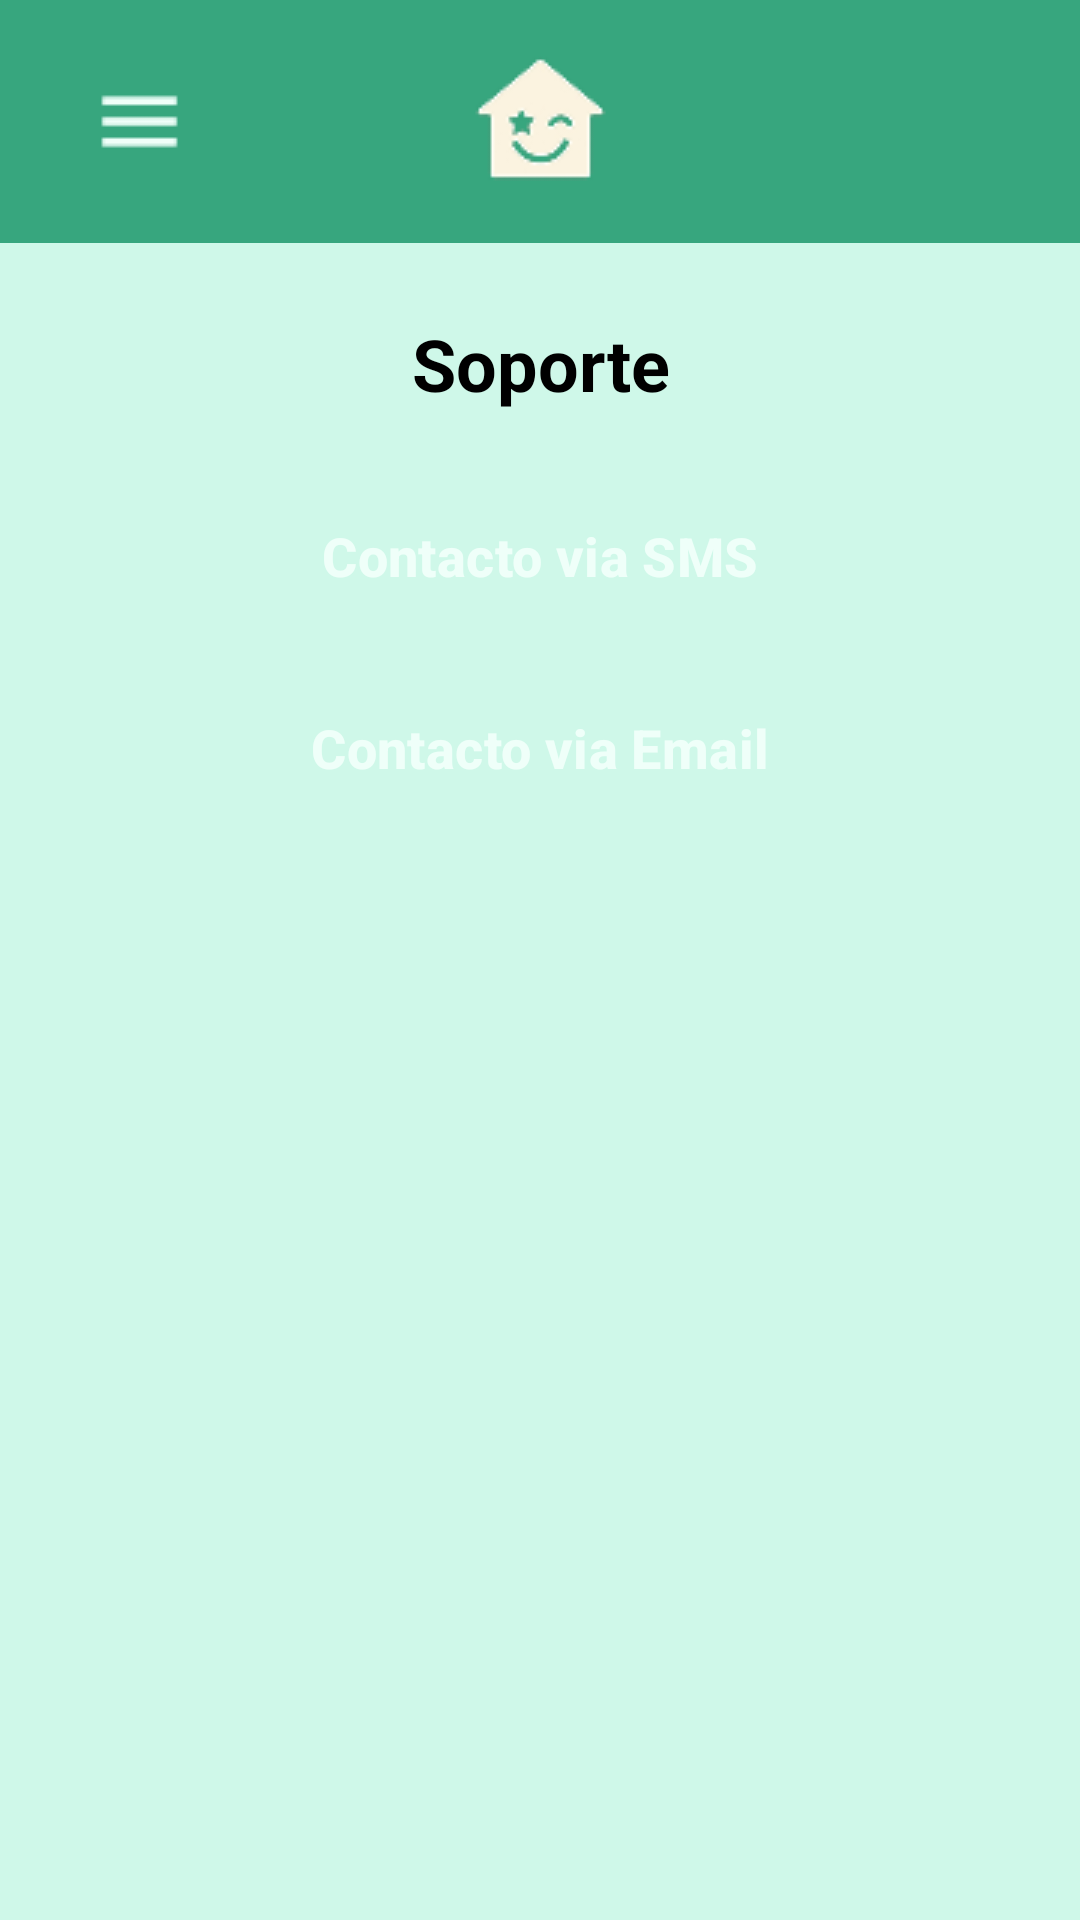

Icons on this 1080 x 1920 Android screen, each with its box as [left=x1, top=y1, right=x2, bottom=y2]:
hamburguesa: [left=101, top=95, right=178, bottom=148]
